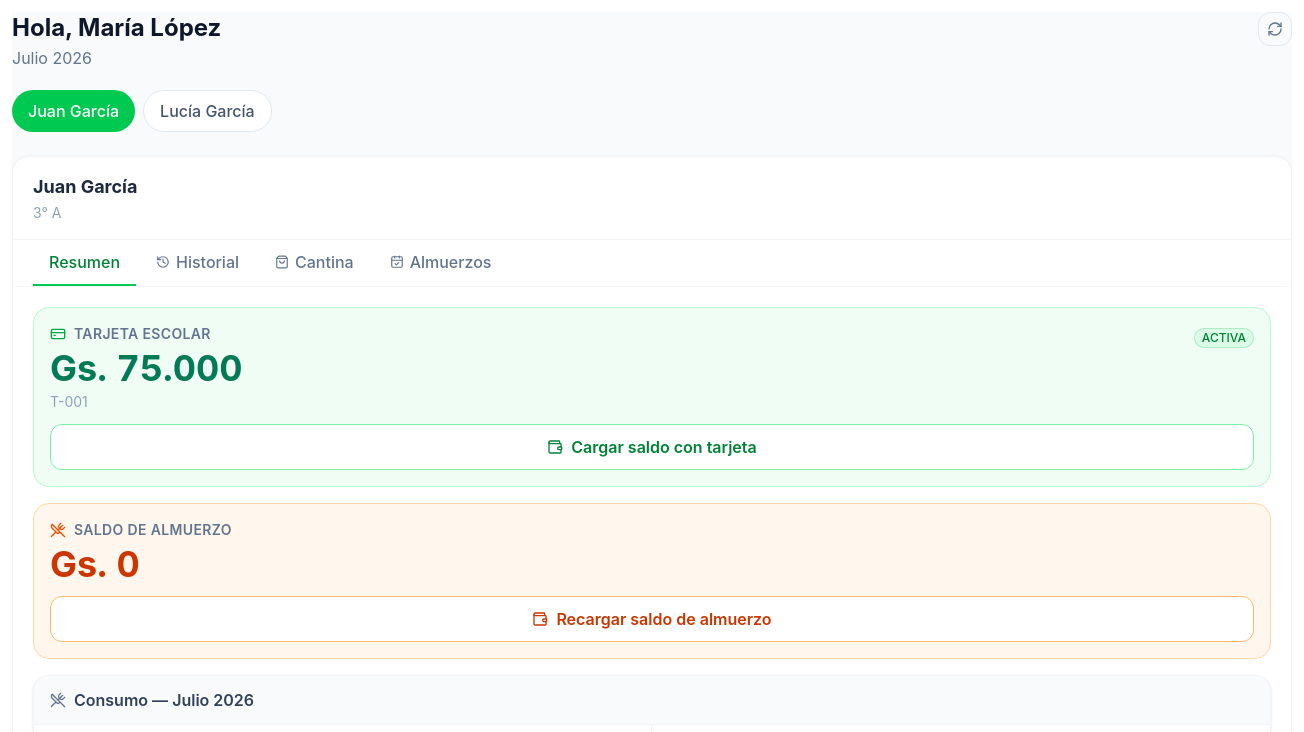
Test: PortalDashboard — datos › click en hijo secundario lo selecciona como activo
This screenshot has width=1304, height=732.
Expected: the button "Juan García" is shown, left=12, top=90, right=135, bottom=132
Click the button "Lucía García".
click(207, 111)  # box left=143, top=90, right=272, bottom=132
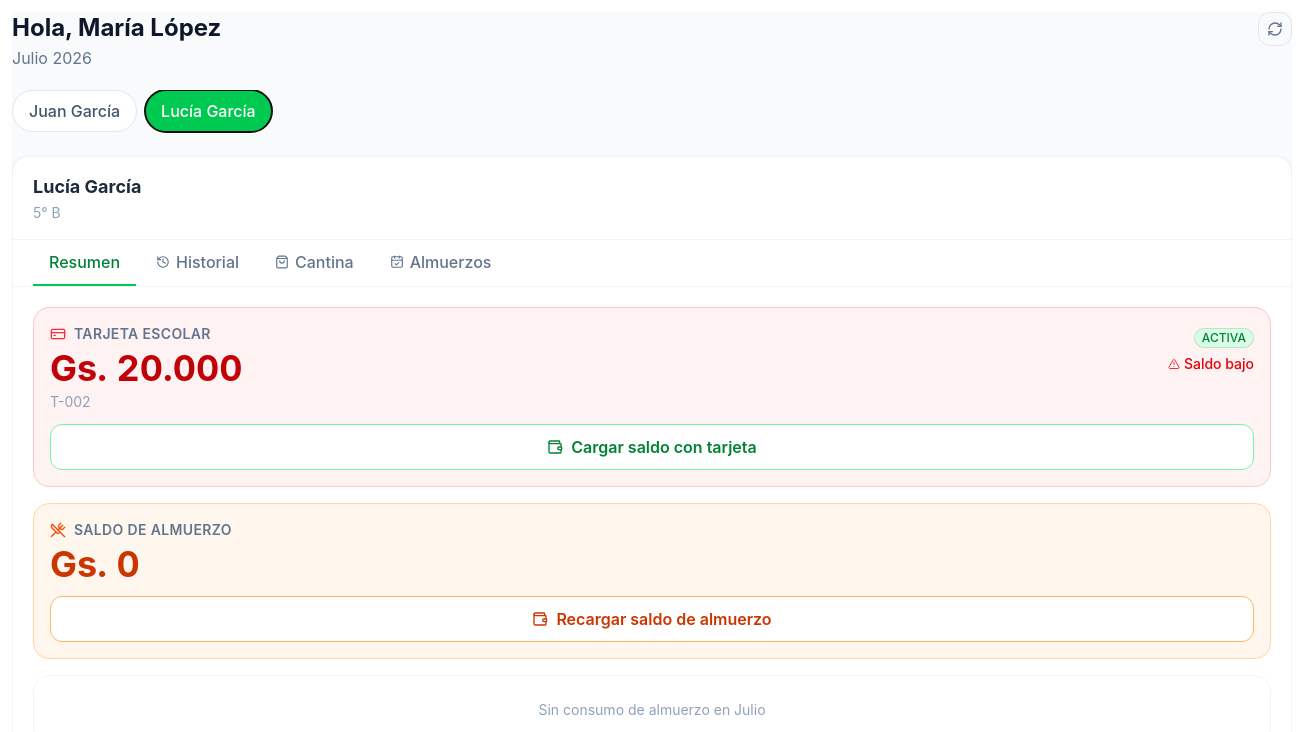
Expected: the text "5° B" is shown, left=33, top=204, right=61, bottom=221
